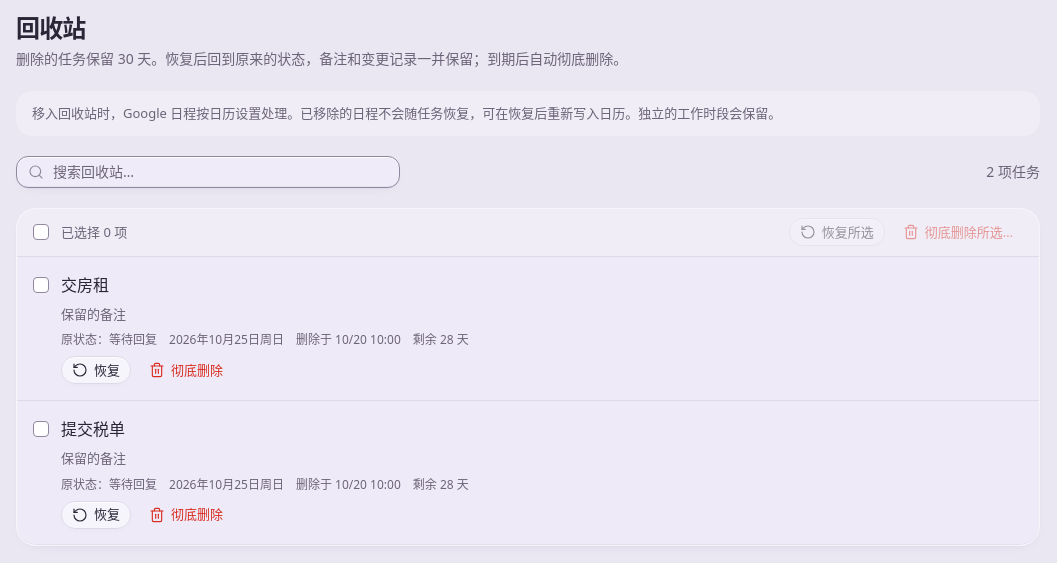
Test case: Task recycle bin › shows the retained notes, original status and time left, and restores a task
This screenshot has width=1057, height=563.
Expected: the text "原状态：等待回复" is shown 2 times, [61, 332, 157, 348]; [61, 477, 157, 493]
Expected: the text "剩余 28 天" is shown 2 times, [413, 332, 469, 348]; [413, 477, 469, 493]
Click the button with aria-label "恢复「交房租」". click: (96, 370)
box: [61, 356, 131, 384]
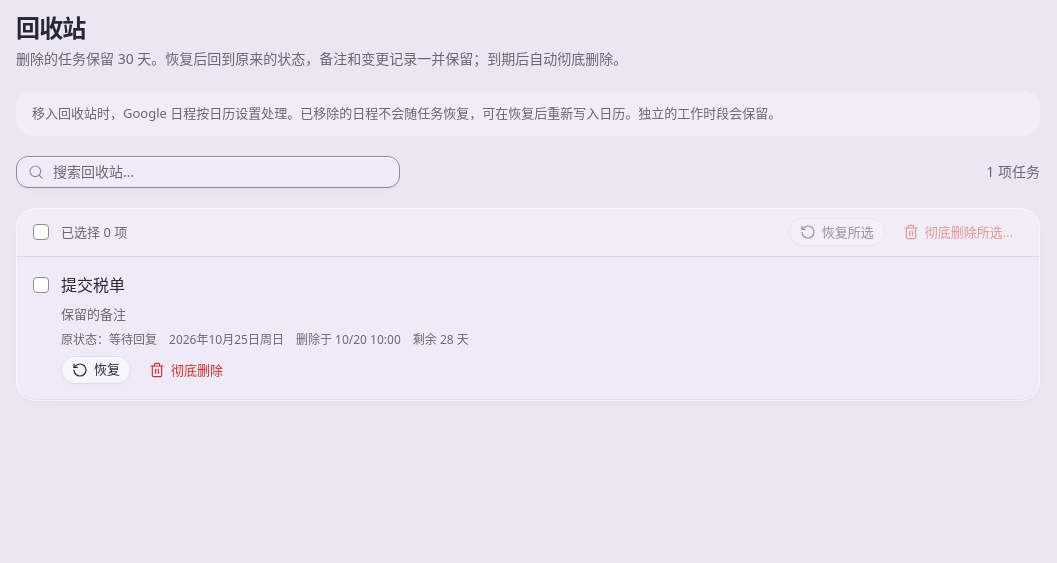
Expected: the text "提交税单" is shown, [61, 274, 125, 296]
Expected: the text "交房租" is gone
